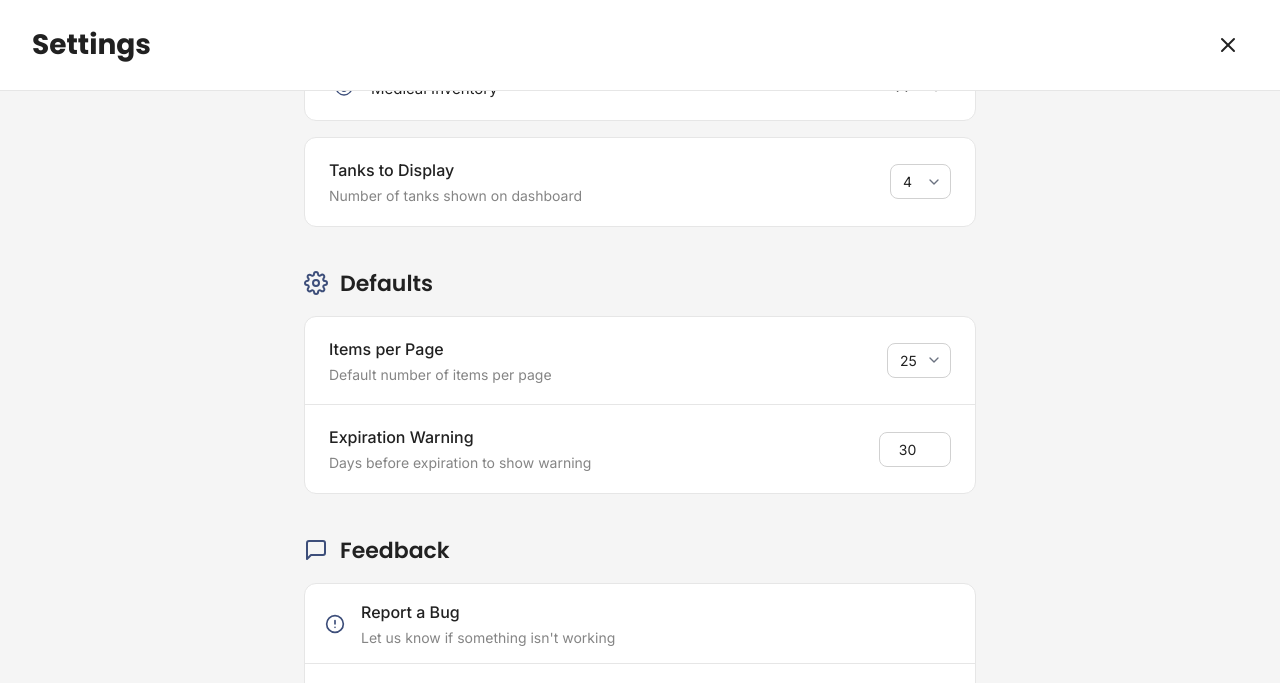
Test case: Settings Page › save modal › shows save modal when closing with unsaved changes
(page scrolled)
// Change a setting
Step 1. Select "50" in the dropdown showing "25" in the row of "Default number of items per page" → {"x": 919, "y": 360}, box [887,343,951,378]
(page scrolled)
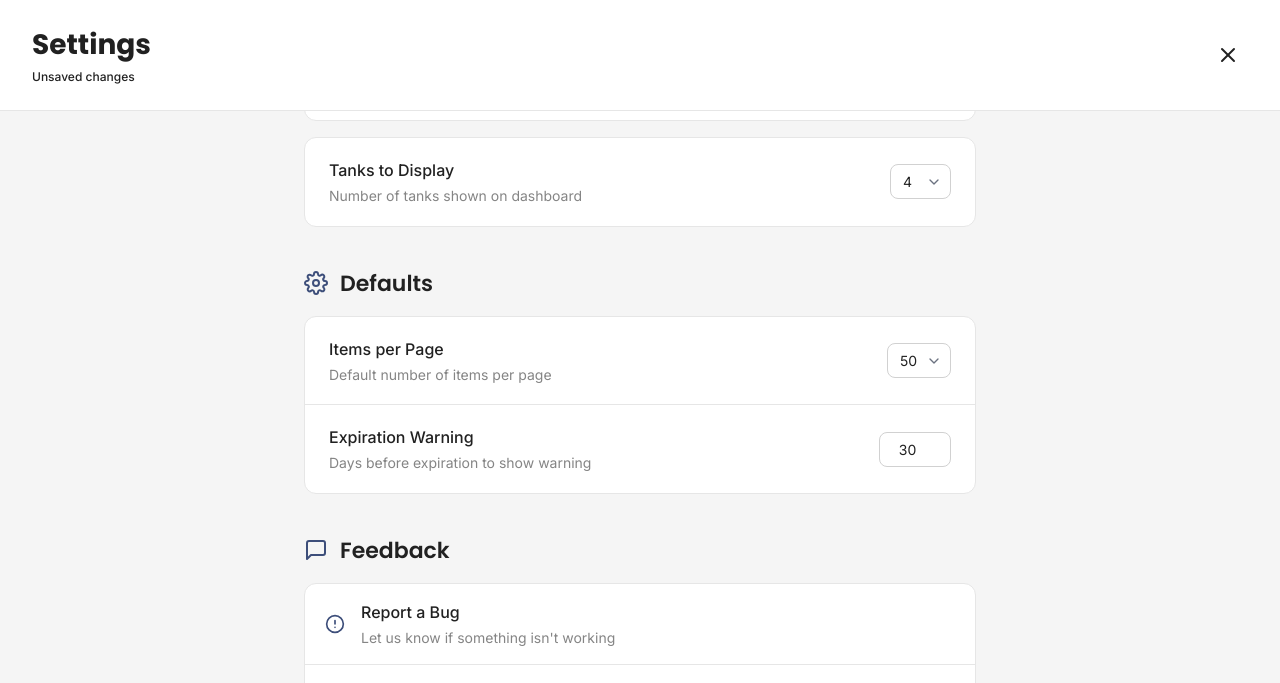
// Click close button
Step 2. Click the button named "Close settings" → {"x": 1228, "y": 55}, box [1208,35,1248,75]
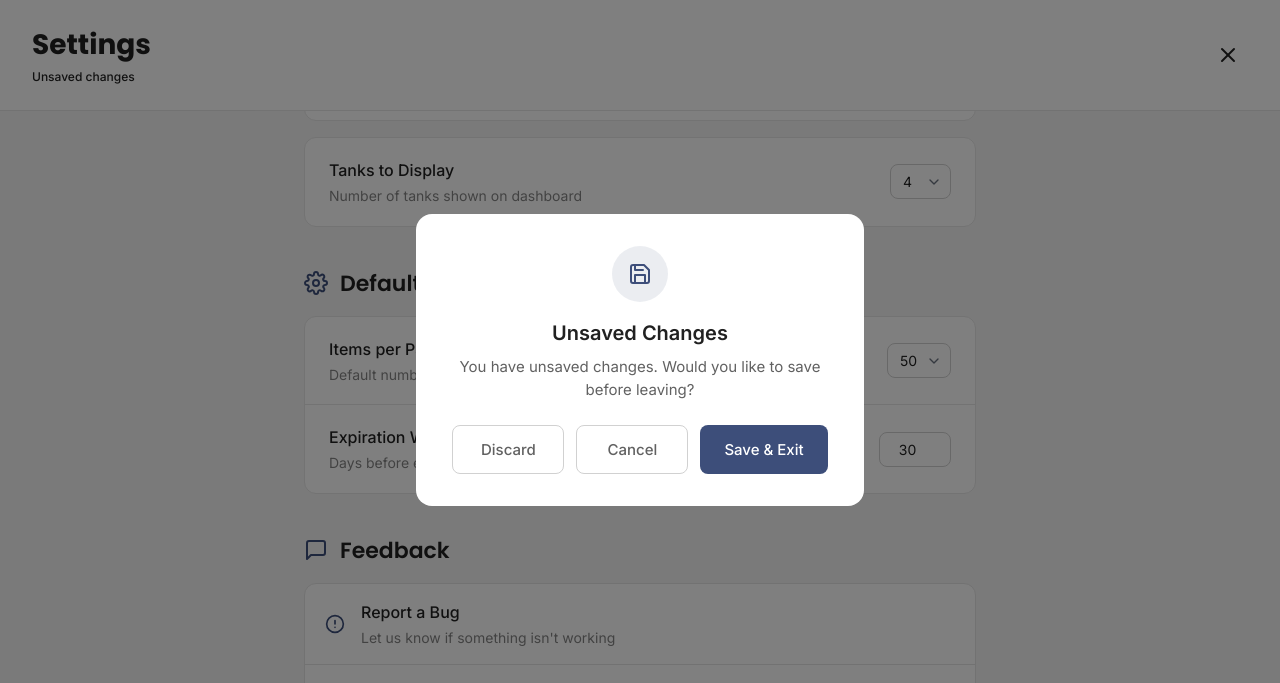
Expected: the heading "Unsaved Changes" is shown, [552,321,728,345]
Expected: the text "You have unsaved changes. Would you like to save before leaving?" is shown, [448,356,832,401]
